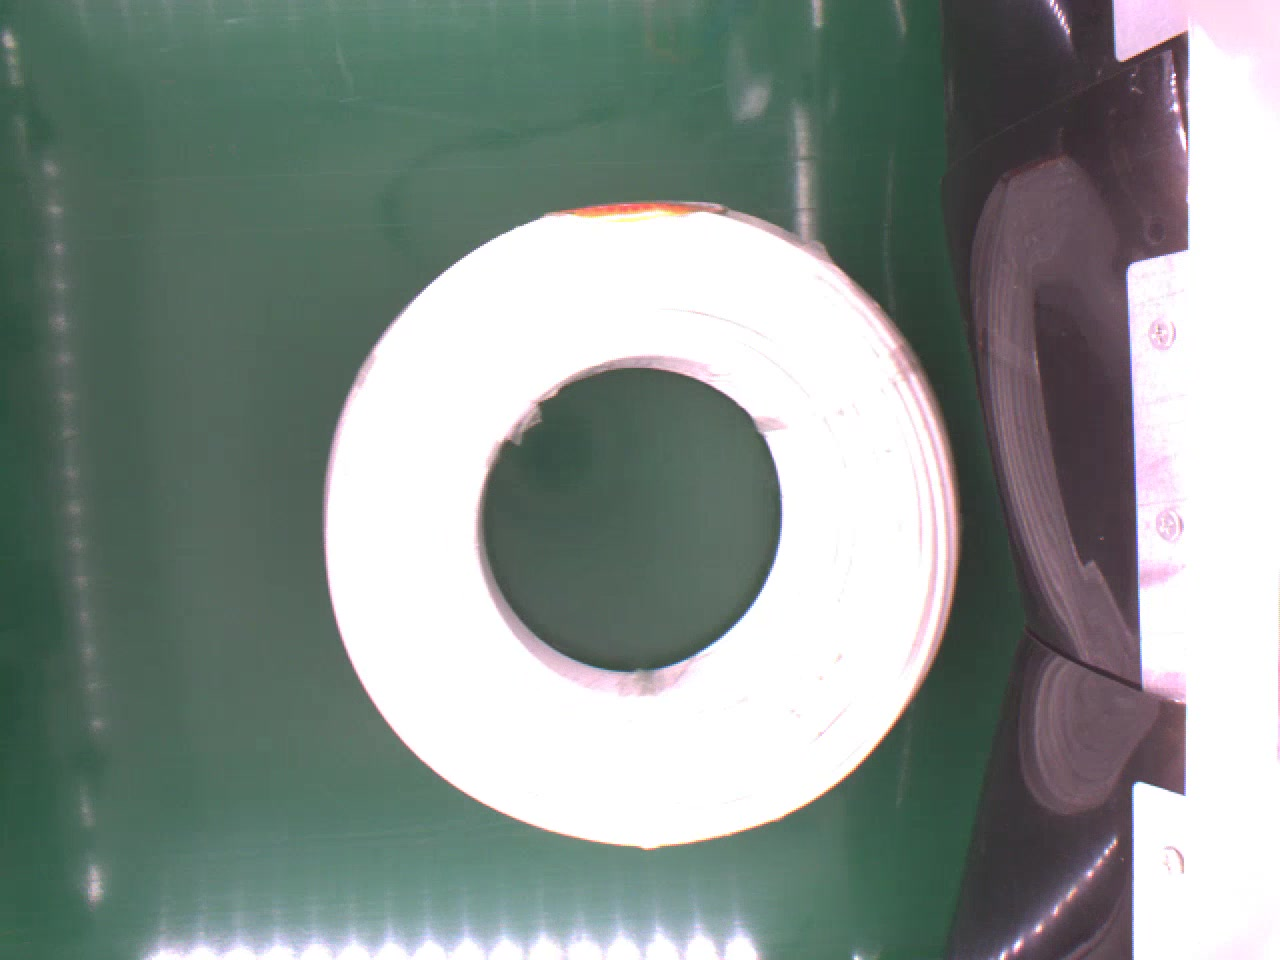white: (321, 198, 969, 853)
